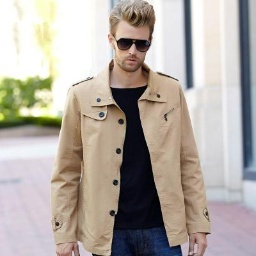face: (110, 1, 156, 73)
